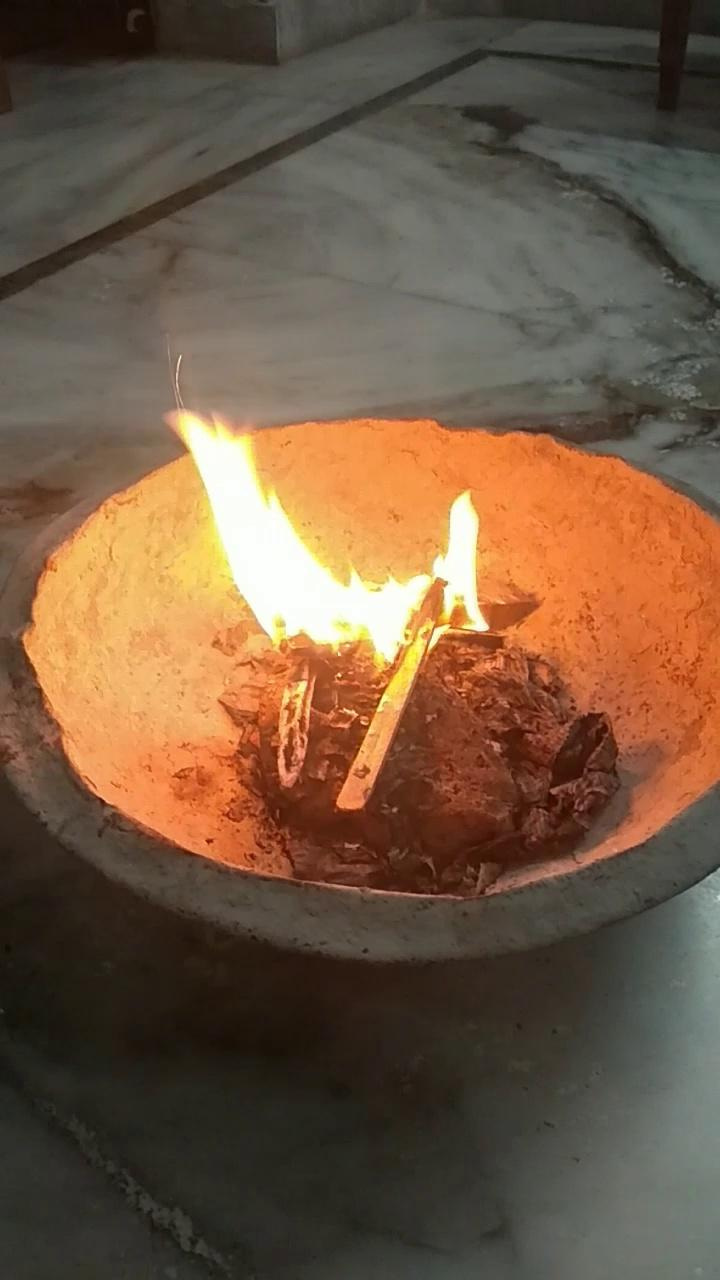fire: (174, 402, 498, 650)
